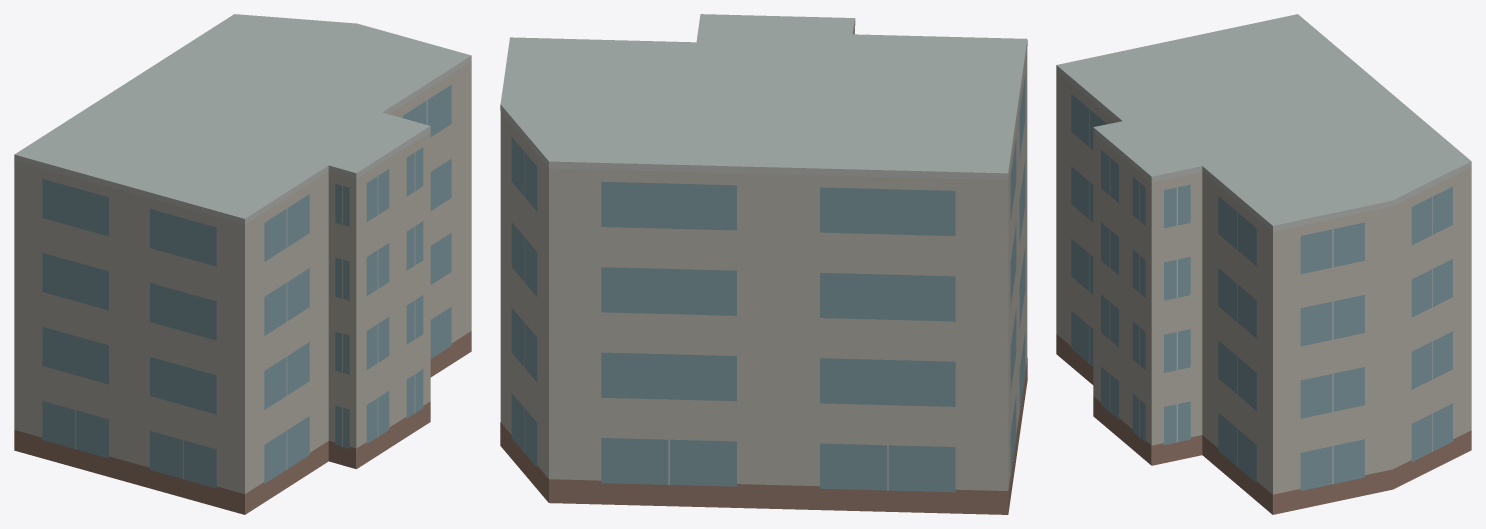
Rendered from residential-045d4481-1e12-4300-9a77-fbbed3a30923.glb.
The picture shows the model from 3 angles, left to right: view 1: azimuth 30°, elevation 25°; view 2: azimuth 150°, elevation 25°; view 3: azimuth 270°, elevation 25°; orthographic projection. The views are drawn at different scales.
Visible parts, largest first — view 1: residential-045d4481-1e12-4300-9a77-fbbed3a30923.tmp; view 2: residential-045d4481-1e12-4300-9a77-fbbed3a30923.tmp; view 3: residential-045d4481-1e12-4300-9a77-fbbed3a30923.tmp.
Boxes of the visible parts, left/top/right/bottom form: residential-045d4481-1e12-4300-9a77-fbbed3a30923.tmp: left=14, top=14, right=471, bottom=514; residential-045d4481-1e12-4300-9a77-fbbed3a30923.tmp: left=500, top=14, right=1027, bottom=514; residential-045d4481-1e12-4300-9a77-fbbed3a30923.tmp: left=1056, top=14, right=1471, bottom=514.
Size of the model in its own units: 19.19 by 12.2 by 15.9.
